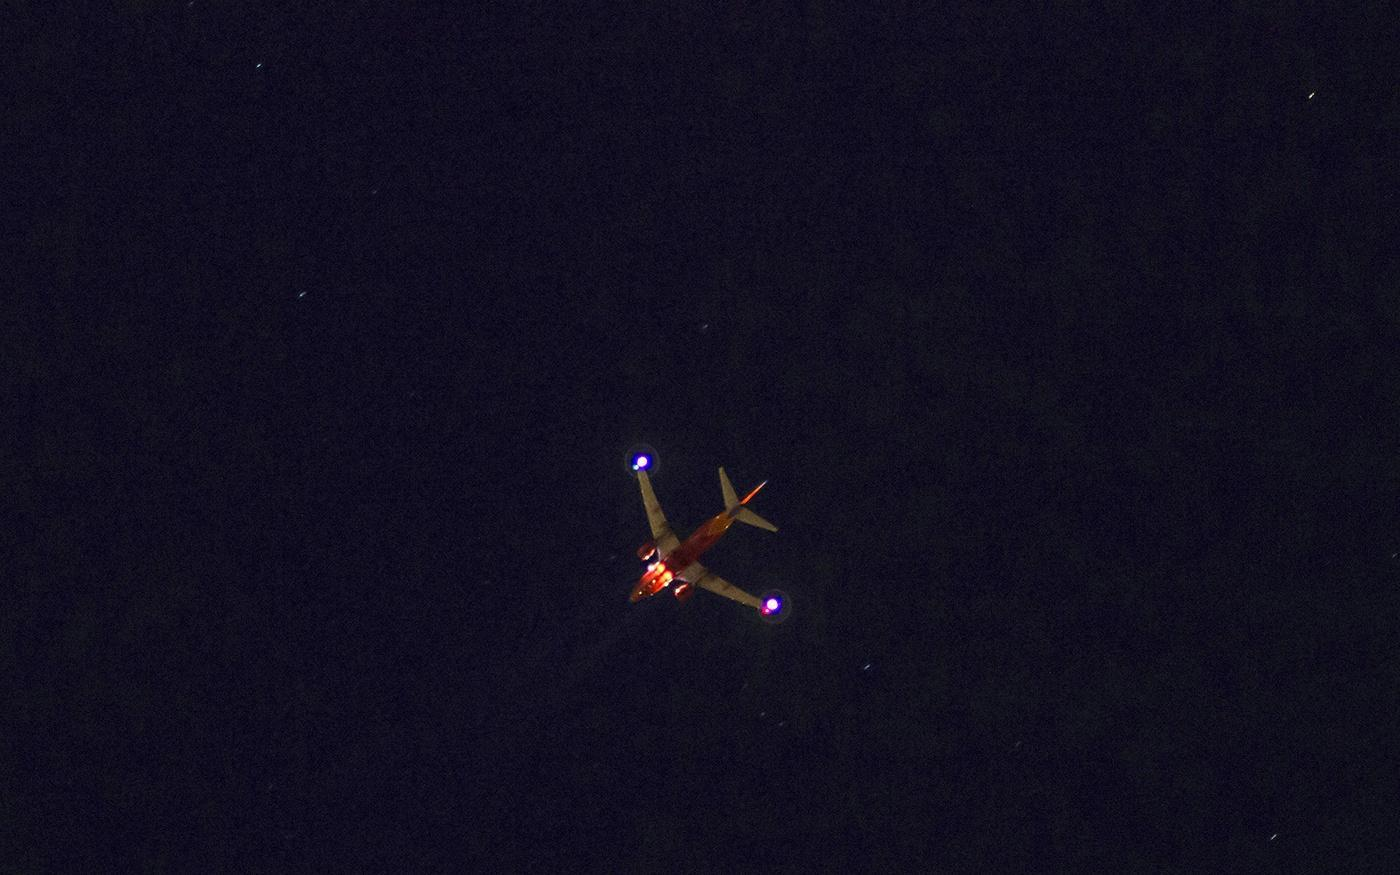Plane: (541, 429, 810, 648)
